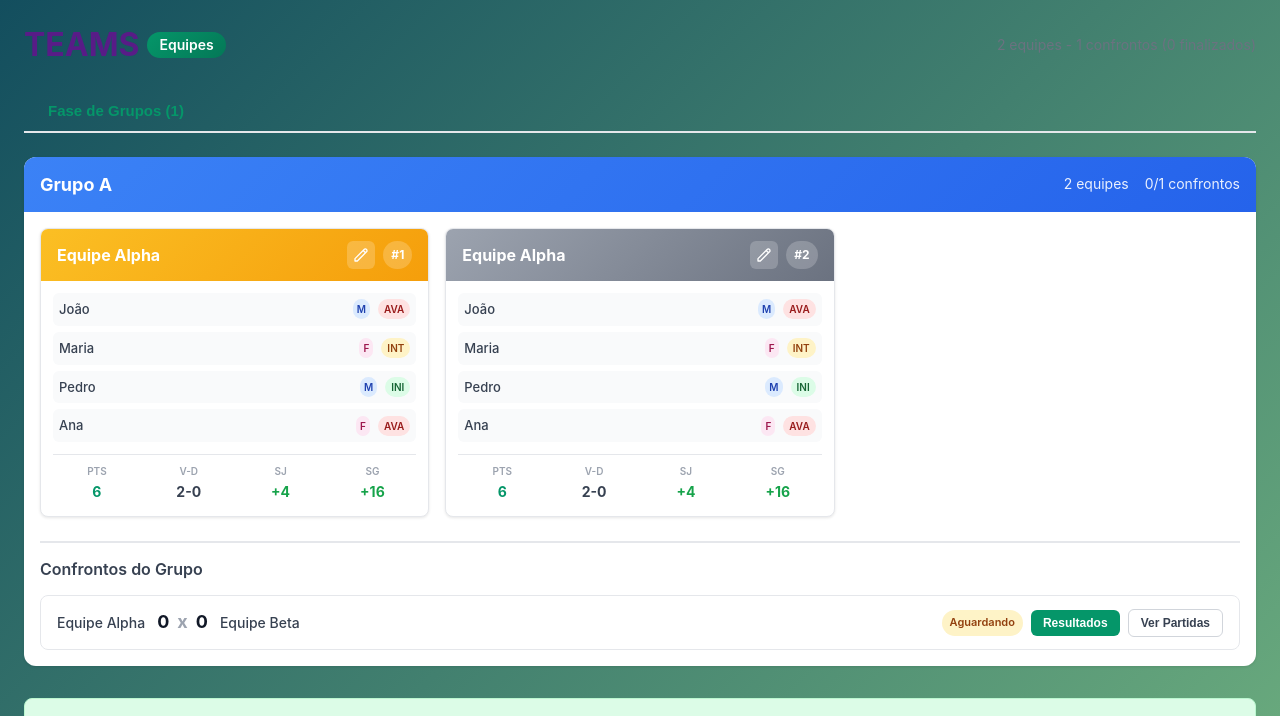
Test: ChavesTeams › expandir partidas › deve colapsar partidas ao clicar em Ocultar
The image size is (1280, 716).
Click the button "Ver Partidas" at (1175, 623), box [1128,609,1223,637]
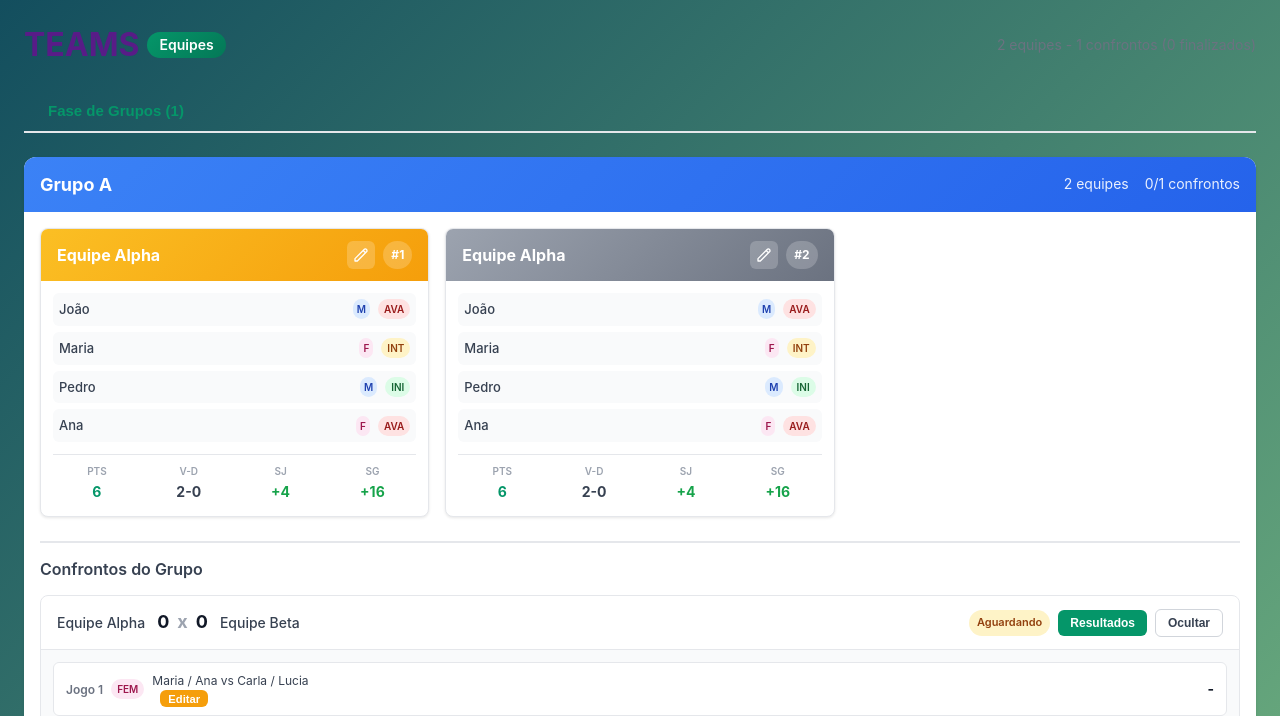
Now the button "Ocultar" is shown
Click the button "Ocultar" at (1189, 623), box [1155,609,1223,637]
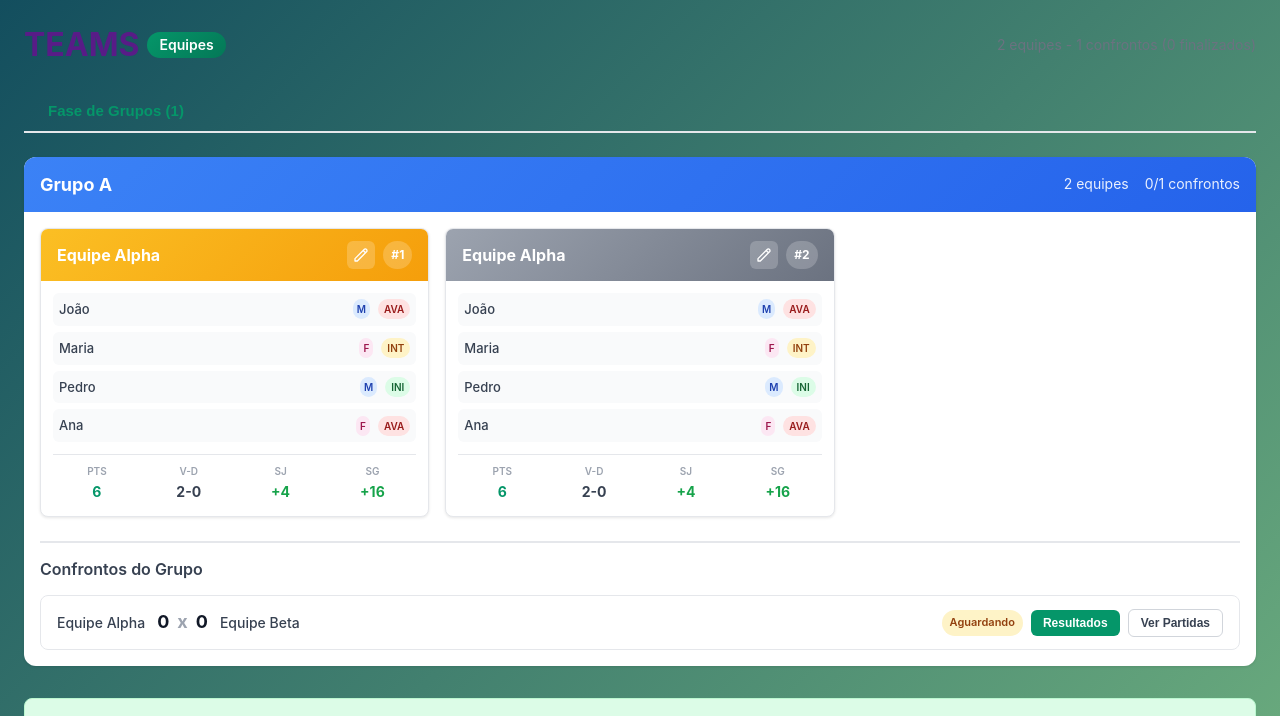
Now the button "Ver Partidas" is shown, box [1128,609,1223,637]
